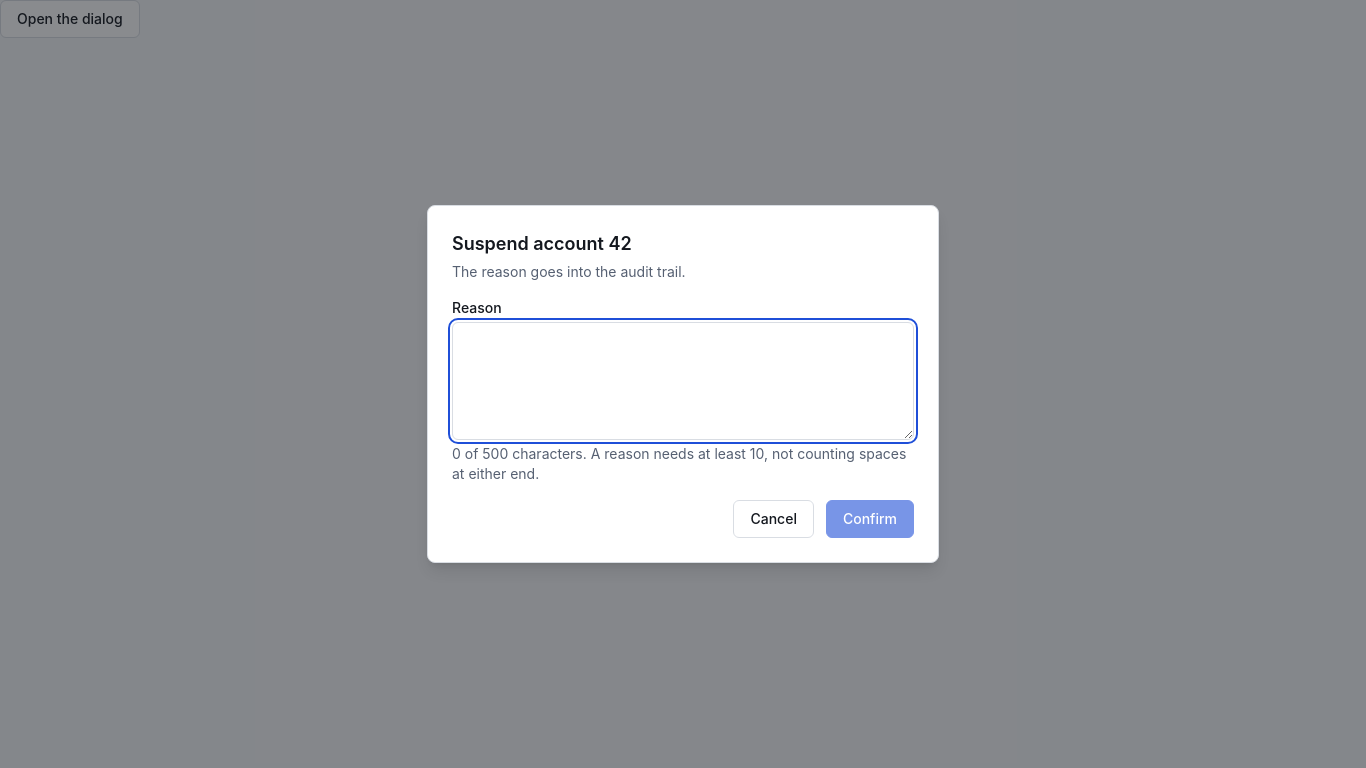
Scenario: ReasonDialog › says to reopen the dialog when the server refuses a reused key
Type "Twelve accounts share this fingerprint." into the text box labelled "Reason".
click(683, 381); type("Twelve accounts share this fingerprint.")  # box [452,322,914,440]
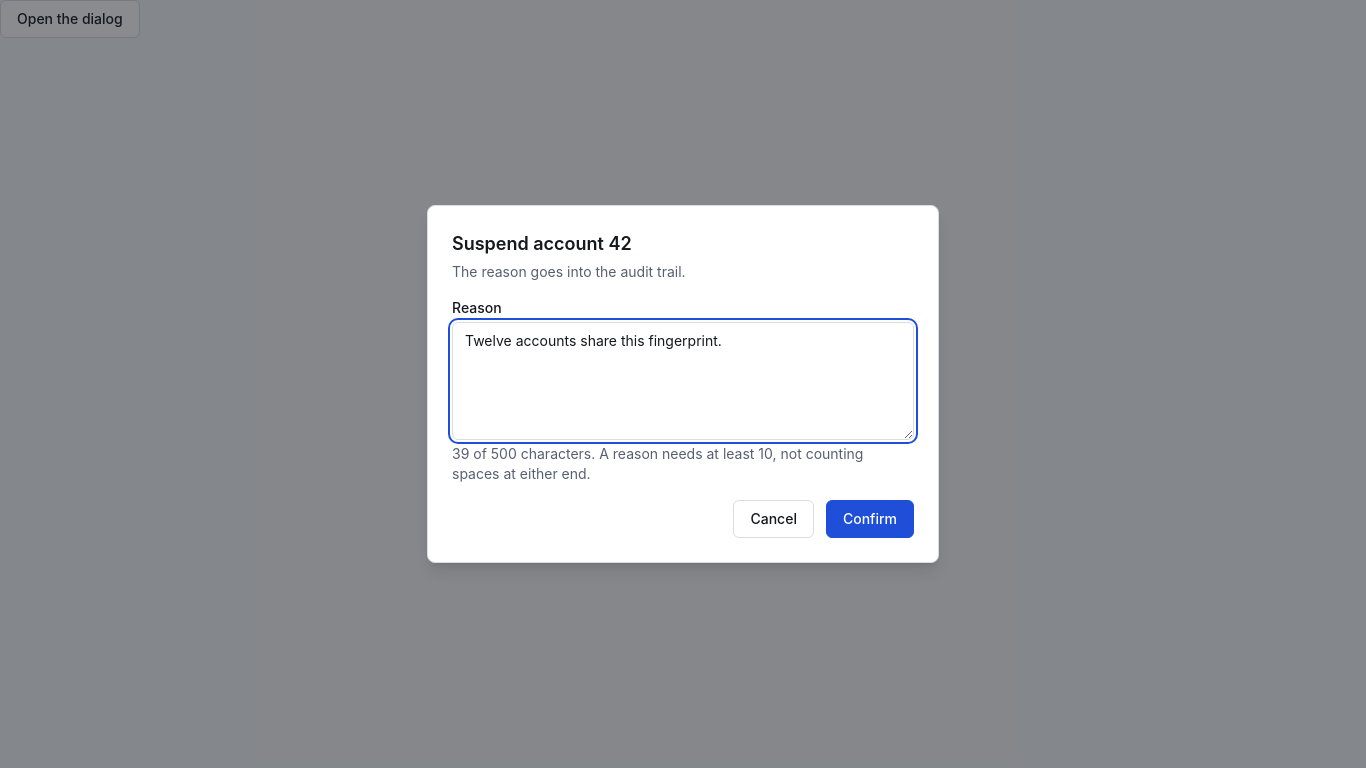
Click the button "Confirm".
click(870, 519)  # box [826,500,914,538]
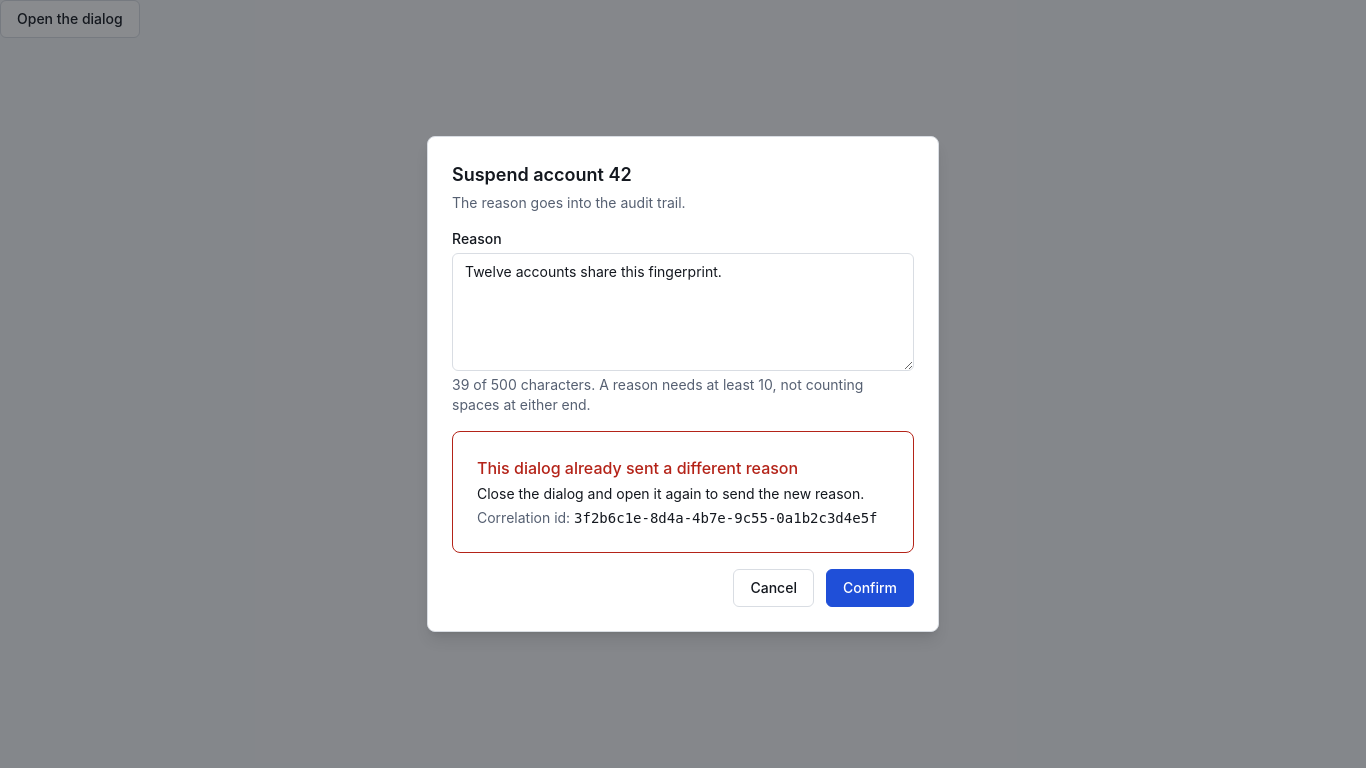
Expected: the message shows "This dialog already sent a different reason", [477,458,798,478]
Expected: the message shows "Close the dialog and open it again", [477,485,864,502]
Expected: the message shows "3f2b6c1e-8d4a-4b7e-9c55-0a1b2c3d4e5f", [574,510,878,526]
